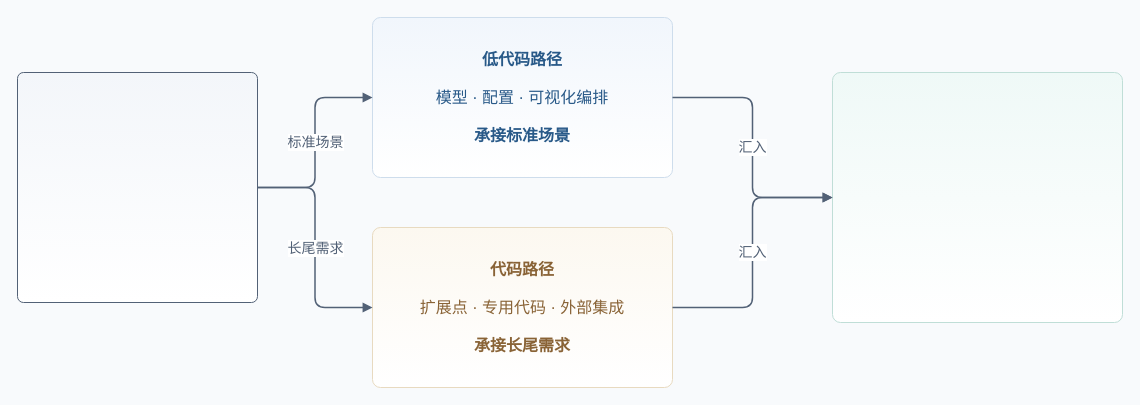
Some shapes in this 1140 by 405 pixel diagram are drawn without their labels. The shapes that lost their labels are listed below. From the top down, each one's centre as x and y in pixels, then its label:
At pixel 137 187: "业务需求 标准场景与长尾需求".
At pixel 977 197: "同一个应用 统一模型 统一权限 统一版本 统一运行时".
